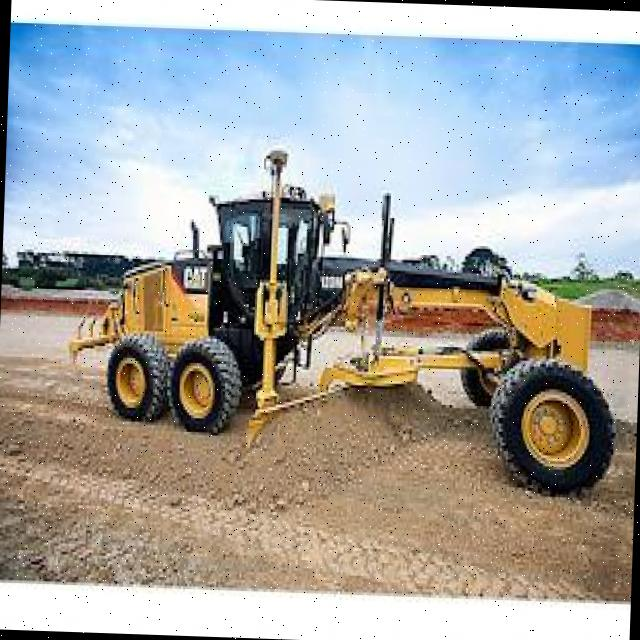Grader: (76, 143, 634, 510)
